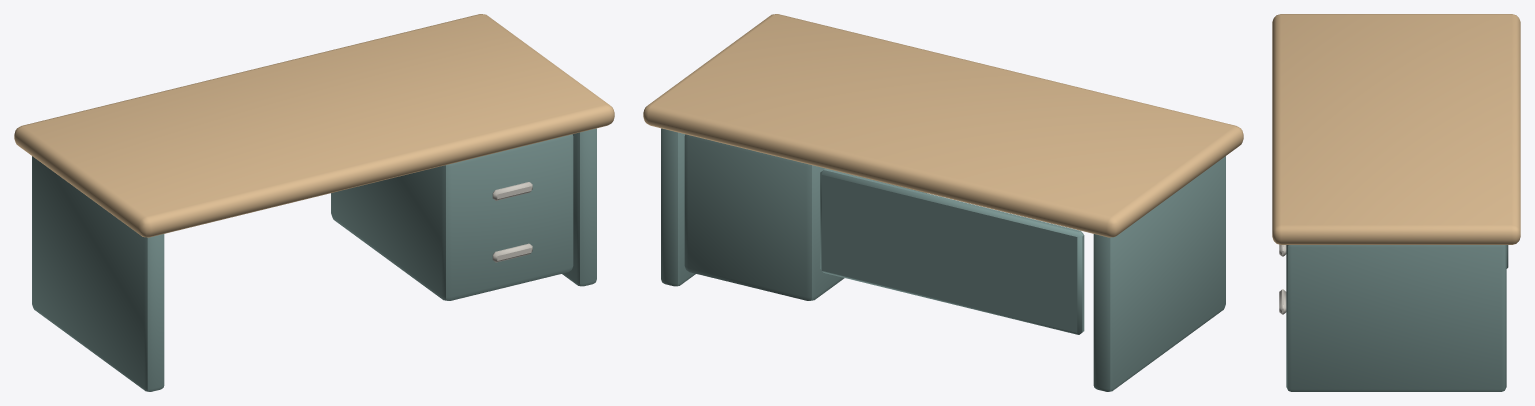
File: office_desk.glb
The picture shows the model from 3 angles, left to right: view 1: azimuth 30°, elevation 25°; view 2: azimuth 150°, elevation 25°; view 3: azimuth 270°, elevation 25°; orthographic projection. The views are drawn at different scales.
Visible parts, largest first — view 1: wood, paint, steel; view 2: paint, wood; view 3: wood, paint, steel.
Boxes of the visible parts, x1,y1,x2,y2 form: wood: (14,14,614,237); paint: (32,128,596,391); steel: (492,182,532,262); paint: (661,128,1225,391); wood: (643,14,1243,237); wood: (1272,14,1520,244); paint: (1286,245,1508,391); steel: (1279,244,1286,314).
Bounding box in the file's own units: 1.45 × 0.53 × 0.7.
